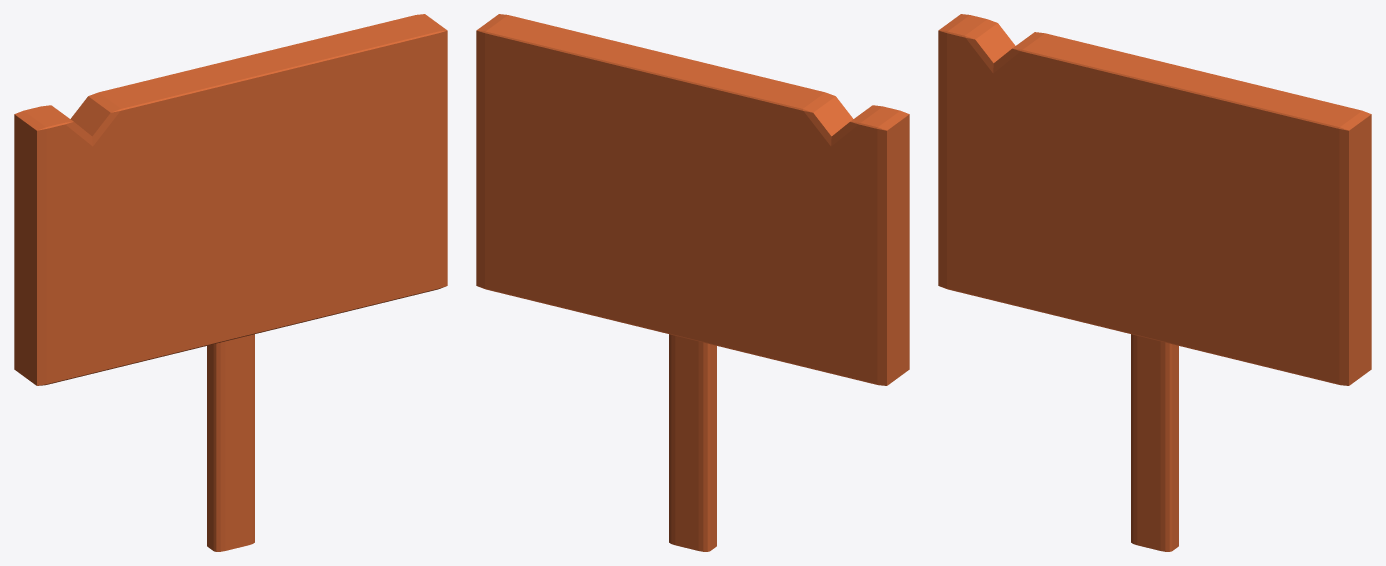
File: Sign.fbx
The picture shows the model from 3 angles, left to right: view 1: azimuth 30°, elevation 25°; view 2: azimuth 150°, elevation 25°; view 3: azimuth 330°, elevation 25°; orthographic projection.
Parts seen in each view (by area): view 1: Cube; view 2: Cube; view 3: Cube.
Boxes of the visible parts, x1=… form: Cube: x1=14, y1=14, x2=447, y2=551; Cube: x1=476, y1=14, x2=909, y2=551; Cube: x1=938, y1=14, x2=1371, y2=551.
Size of the model in its own units: 100 by 110 by 10.
